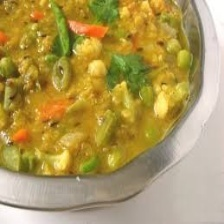sabzi: (0, 0, 194, 174)
